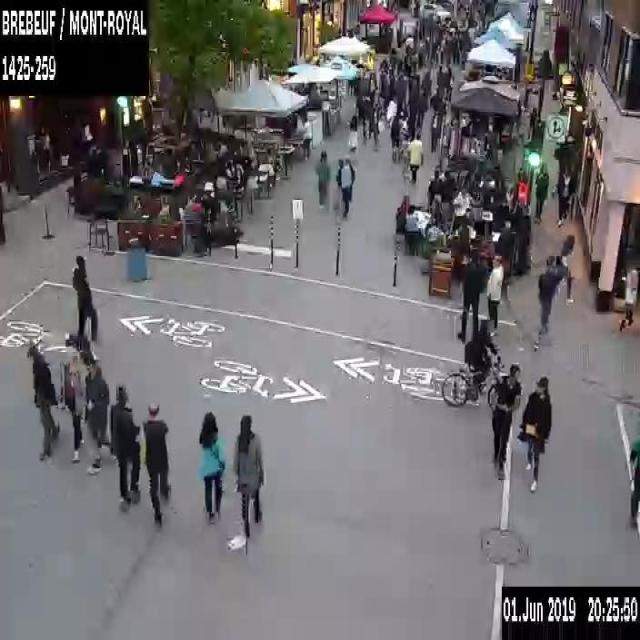cyclist: (440, 322, 508, 406)
pedestrian: (231, 413, 263, 538), (486, 364, 520, 481), (108, 386, 139, 511), (26, 343, 58, 457), (517, 376, 550, 479), (142, 407, 170, 521), (197, 409, 224, 520), (61, 345, 84, 461), (87, 356, 109, 471), (456, 252, 482, 345), (72, 256, 98, 342), (535, 254, 561, 334), (484, 252, 502, 332), (619, 266, 639, 330), (558, 232, 576, 302), (554, 163, 574, 225), (626, 438, 639, 526), (334, 158, 354, 210), (405, 131, 423, 184), (534, 161, 547, 223), (390, 105, 404, 162), (315, 150, 329, 206), (368, 108, 384, 152), (496, 220, 514, 257), (420, 59, 433, 106), (427, 169, 442, 203), (429, 107, 440, 152), (404, 203, 419, 236), (301, 115, 312, 157), (348, 112, 357, 151), (527, 106, 536, 139), (397, 191, 409, 215)
vehicle: (419, 1, 452, 22), (516, 377, 520, 384)
